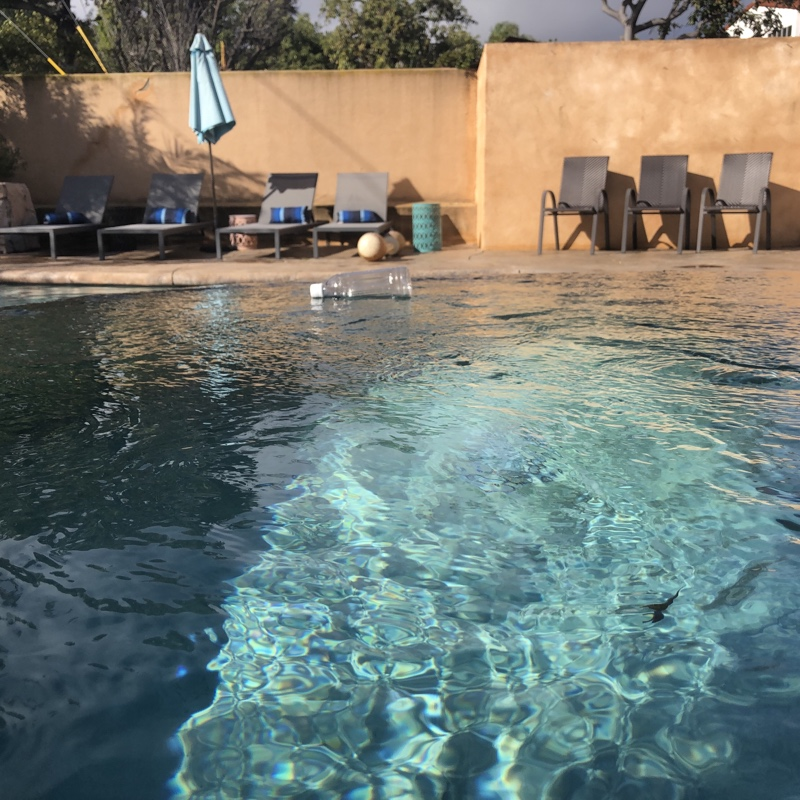Plastic Bottle: (306, 264, 414, 302)
